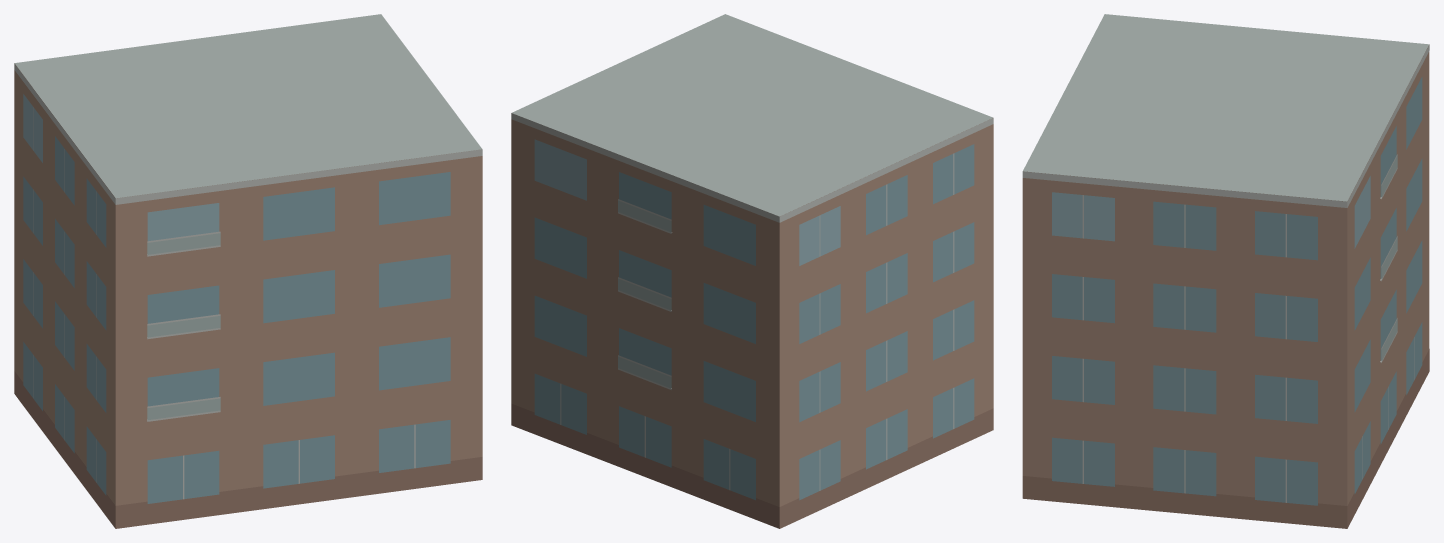
The model's file is residential-944e3dca-295f-4cca-bf6a-9aa7a356cc1e.glb.
3 renders of one model, left to right at view 1: azimuth 30°, elevation 25°; view 2: azimuth 150°, elevation 25°; view 3: azimuth 270°, elevation 25°, orthographic. The views are drawn at different scales.
Visible parts, largest first — view 1: residential-944e3dca-295f-4cca-bf6a-9aa7a356cc1e.tmp; view 2: residential-944e3dca-295f-4cca-bf6a-9aa7a356cc1e.tmp; view 3: residential-944e3dca-295f-4cca-bf6a-9aa7a356cc1e.tmp.
Boxes of the visible parts, x1,y1,x2,y2 form: residential-944e3dca-295f-4cca-bf6a-9aa7a356cc1e.tmp: (14, 14, 482, 528); residential-944e3dca-295f-4cca-bf6a-9aa7a356cc1e.tmp: (511, 14, 993, 528); residential-944e3dca-295f-4cca-bf6a-9aa7a356cc1e.tmp: (1022, 14, 1429, 528).
Bounding box in the file's own units: 15 × 12.2 × 13.75.
